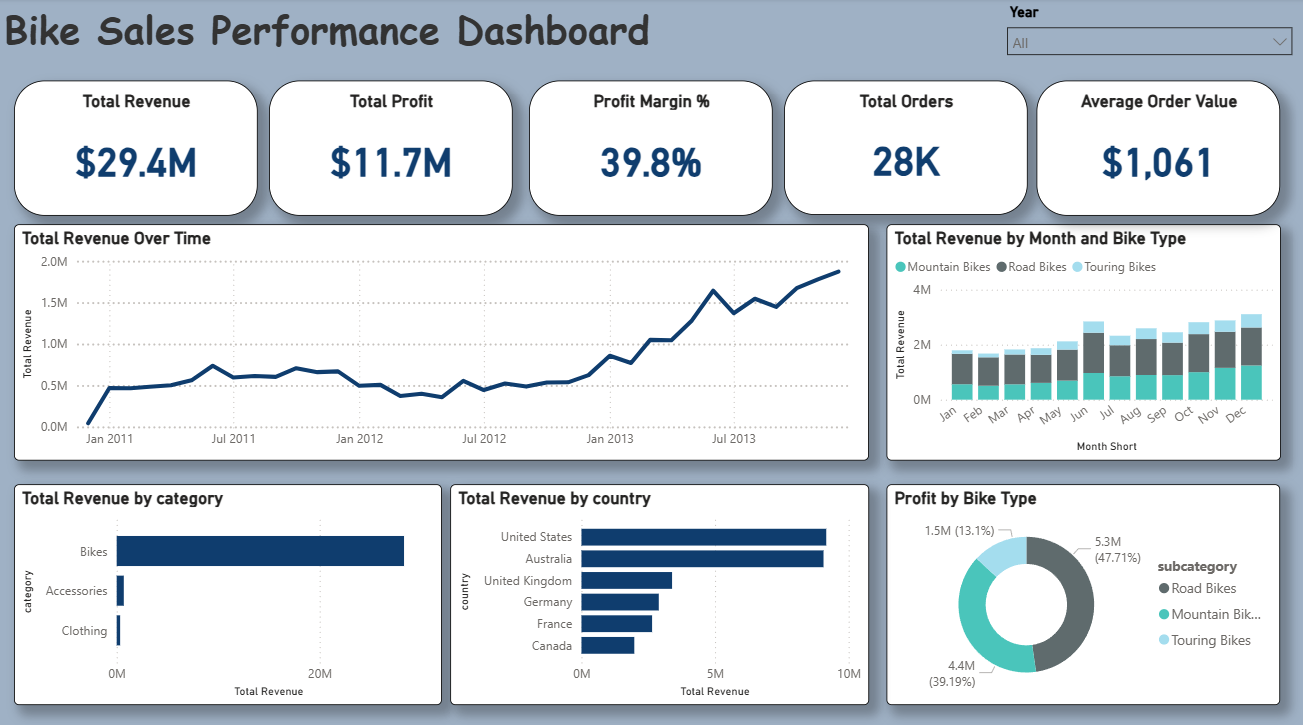

Layout of this report page (visuals, bound fields, positions):
{"tool":"powerbi","page":{"name":"Page 1","canvas":[1280,720],"ordinal":0},"visuals":[{"type":"card","title":"Total Revenue","fields":{"Values":["gold fact_sales.Total Revenue"]},"box":[14.7,81,239.3,132.5],"z":0},{"type":"card","title":"Total Profit","fields":{"Values":["gold fact_sales.Total Profit"]},"box":[265,81,239.3,132.5],"z":1000},{"type":"card","title":"Profit Margin %","fields":{"Values":["gold fact_sales.Profit Margin %"]},"box":[520.2,81,239.3,132.5],"z":2000},{"type":"card","title":"Total Orders","fields":{"Values":["gold fact_sales.Total Orders"]},"box":[770.6,81,239,132],"z":3000},{"type":"lineChart","title":"Total Revenue Over Time","fields":{"Y":["gold fact_sales.Total Revenue"],"Category":["gold fact_sales.order_date.Variation.Date Hierarchy.Year","gold fact_sales.order_date.Variation.Date Hierarchy.Month"]},"box":[14.7,222.1,839.3,231.9],"z":4000},{"type":"donutChart","title":"Profit by Bike Type","fields":{"Category":["gold dim_products.subcategory"],"Y":["gold fact_sales.Total Profit"]},"box":[871.2,477.3,386.5,217.2],"z":5000},{"type":"clusteredBarChart","fields":{"Category":["gold dim_products.category"],"Y":["gold fact_sales.Total Revenue"]},"box":[14.7,477.3,419.6,217.2],"z":6000},{"type":"textbox","box":[0,0,689.6,110.4],"z":7000},{"type":"barChart","fields":{"Category":["gold dim_customers.country"],"Y":["gold fact_sales.Total Revenue"]},"box":[442.9,477.3,411,217.2],"z":8000},{"type":"columnChart","title":"Total Revenue by Month and Bike Type","fields":{"Y":["gold fact_sales.Total Revenue"],"Series":["gold dim_products.subcategory"],"Category":["gold fact_sales.Month Short"]},"box":[871,222,387,232],"z":8001},{"type":"slicer","fields":{"Values":["gold fact_sales.order_date.Variation.Date Hierarchy.Year"]},"box":[979.1,0,300.6,81],"z":8002},{"type":"card","title":"Average Order Value","fields":{"Values":["gold dim_customers.Average Order Value"]},"box":[1018.4,81,239.3,132.5],"z":8003}]}

Visuals, with their boxes in screenshot pixels (x1, y1, x2, y2), scaled from the page's 1280x720 canvas onto the 1303x725 screenshot:
"Total Revenue" card: <box>15,82,259,215</box>
"Total Profit" card: <box>270,82,513,215</box>
"Profit Margin %" card: <box>530,82,773,215</box>
"Total Orders" card: <box>784,82,1028,214</box>
"Total Revenue Over Time" lineChart: <box>15,224,869,457</box>
"Profit by Bike Type" donutChart: <box>887,481,1280,699</box>
clusteredBarChart - gold dim_products.category x gold fact_sales.Total Revenue: <box>15,481,442,699</box>
textbox: <box>0,0,702,111</box>
barChart - gold dim_customers.country x gold fact_sales.Total Revenue: <box>451,481,869,699</box>
"Total Revenue by Month and Bike Type" columnChart: <box>887,224,1281,457</box>
slicer - gold fact_sales.order_date.Variation.Date Hierarchy.Year: <box>997,0,1302,82</box>
"Average Order Value" card: <box>1037,82,1280,215</box>
